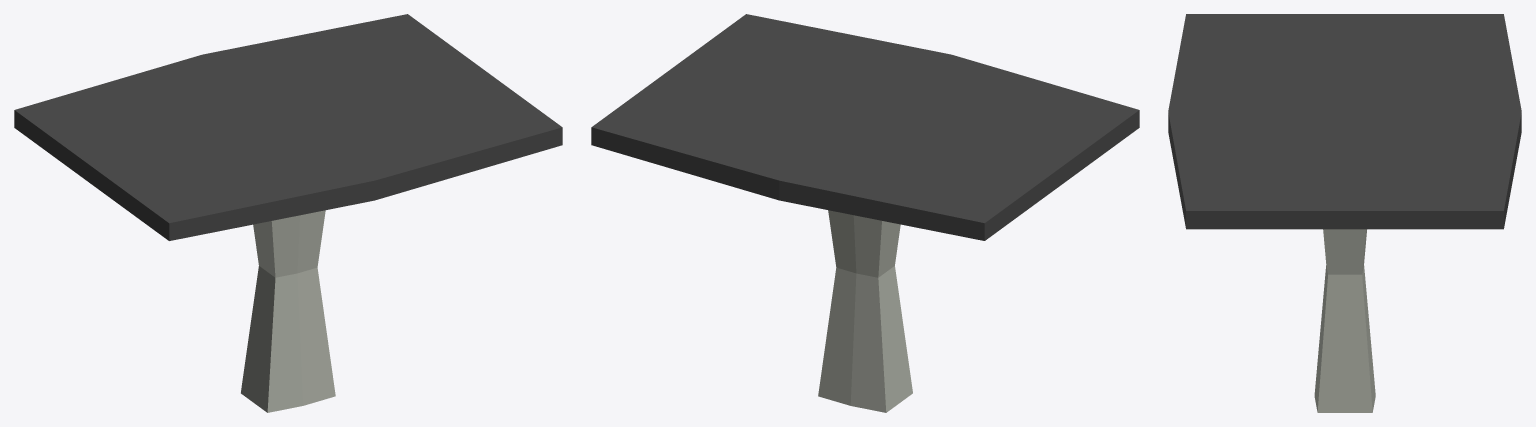
Rendered from mesa.fbx.
The picture shows the model from 3 angles, left to right: view 1: azimuth 30°, elevation 25°; view 2: azimuth 150°, elevation 25°; view 3: azimuth 270°, elevation 25°; orthographic projection. The views are drawn at different scales.
Parts seen in each view (by area): view 1: mesa .001; view 2: mesa .001; view 3: mesa .001.
Part boxes in pixels (left/top/right/bottom): mesa .001: left=14, top=14, right=562, bottom=412; mesa .001: left=591, top=14, right=1139, bottom=412; mesa .001: left=1168, top=14, right=1521, bottom=412.
Size of the model in its own units: 412 by 278 by 313.
